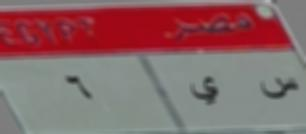6: (61, 68, 93, 112)
seen: (257, 68, 300, 110)
yaa: (188, 72, 223, 109)
